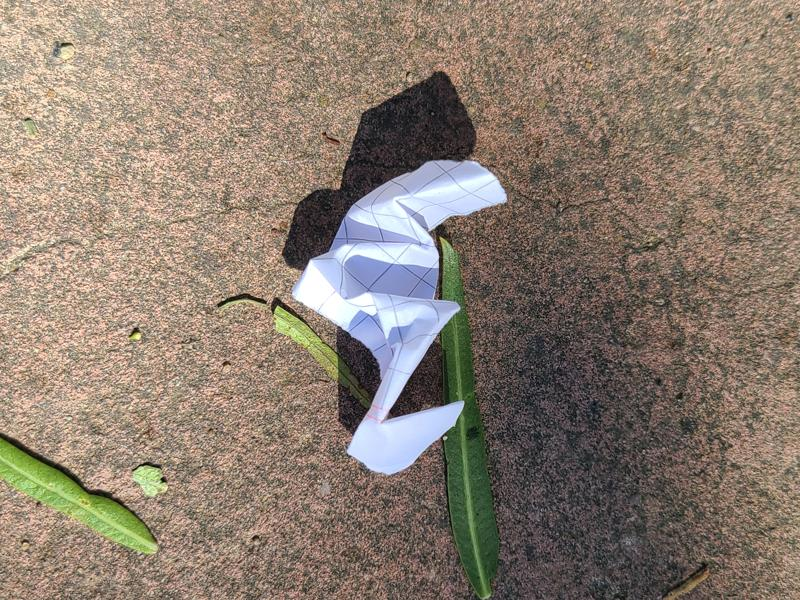papel: (288, 160, 508, 476)
